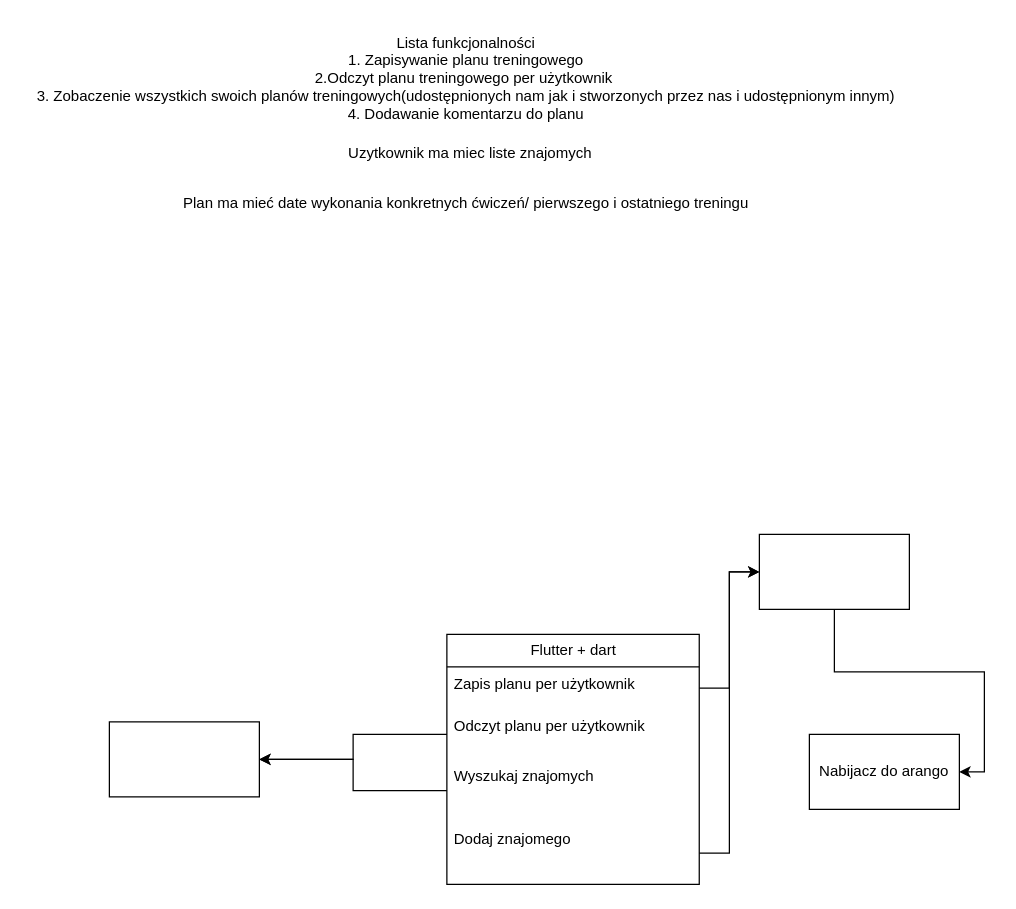
Some shapes in this 1016 by 909 pixel diagram are drawn without their labels. Here are the shapes that lost their labels. From the top down, the centre of each, then its label:
At point (833, 571): "Rabbitmq".
At point (183, 759): "Serwis Api tylko get".
